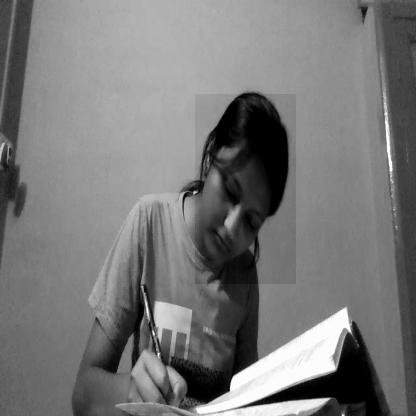Distracted: (195, 94, 296, 284)
